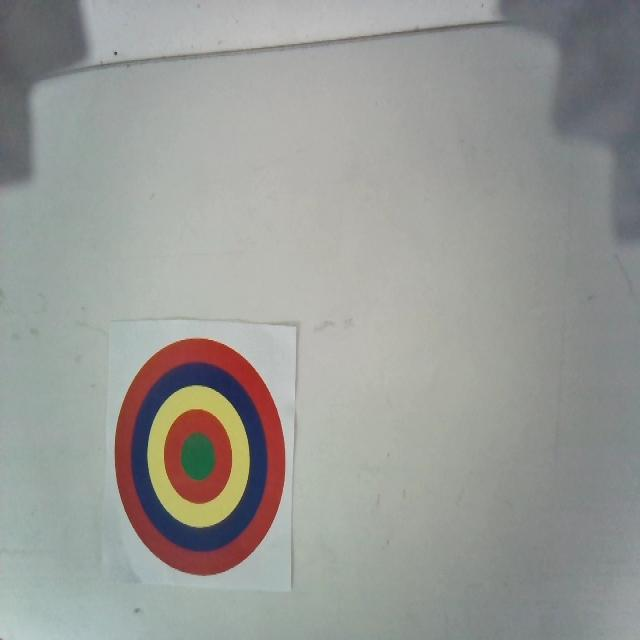cogn: (115, 336, 288, 575)
